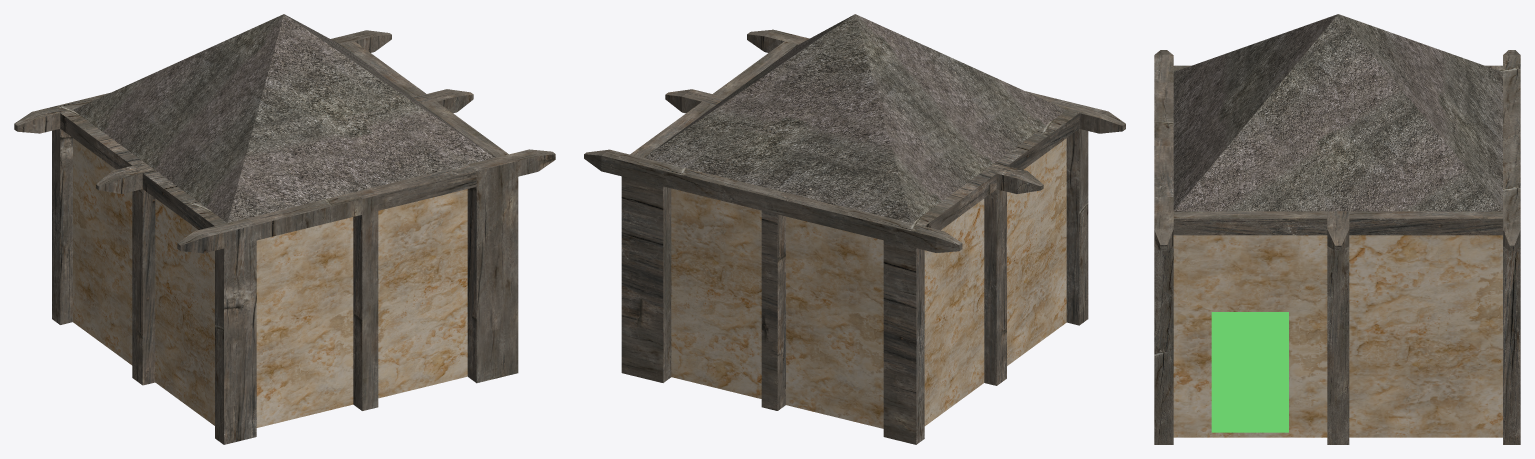
Rendered from house_sma.glb.
3 views of the same model, side by side, from view 1: azimuth 30°, elevation 25°; view 2: azimuth 150°, elevation 25°; view 3: azimuth 270°, elevation 25° (orthographic). The views are drawn at different scales.
Parts seen in each view (by area): view 1: Cube; view 2: Cube; view 3: Cube.
Boxes of the visible parts, x1,y1,x2,y2 form: Cube: (14,14,555,444); Cube: (584,14,1125,444); Cube: (1154,14,1520,444).
Size of the model in its own units: 18.57 by 15.71 by 14.74.
Materials: 4 (3 with a texture image).
